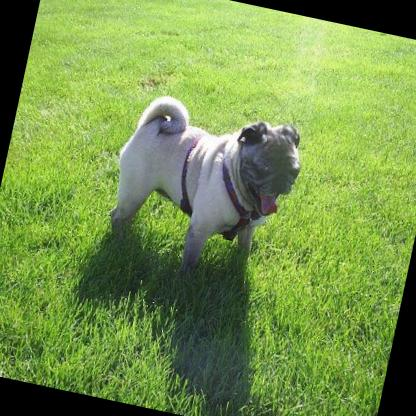pug: (97, 86, 310, 290)
